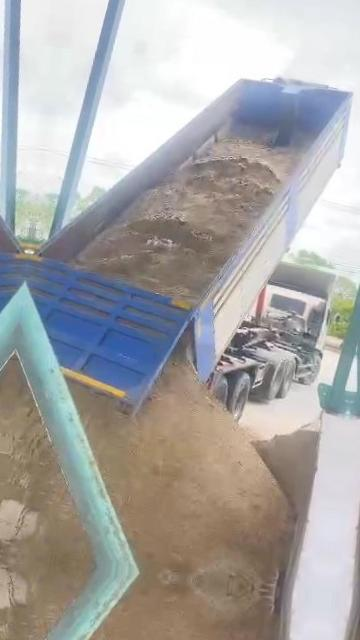sand: (71, 356, 293, 589), (73, 140, 303, 302), (0, 362, 91, 565), (255, 420, 319, 513)
